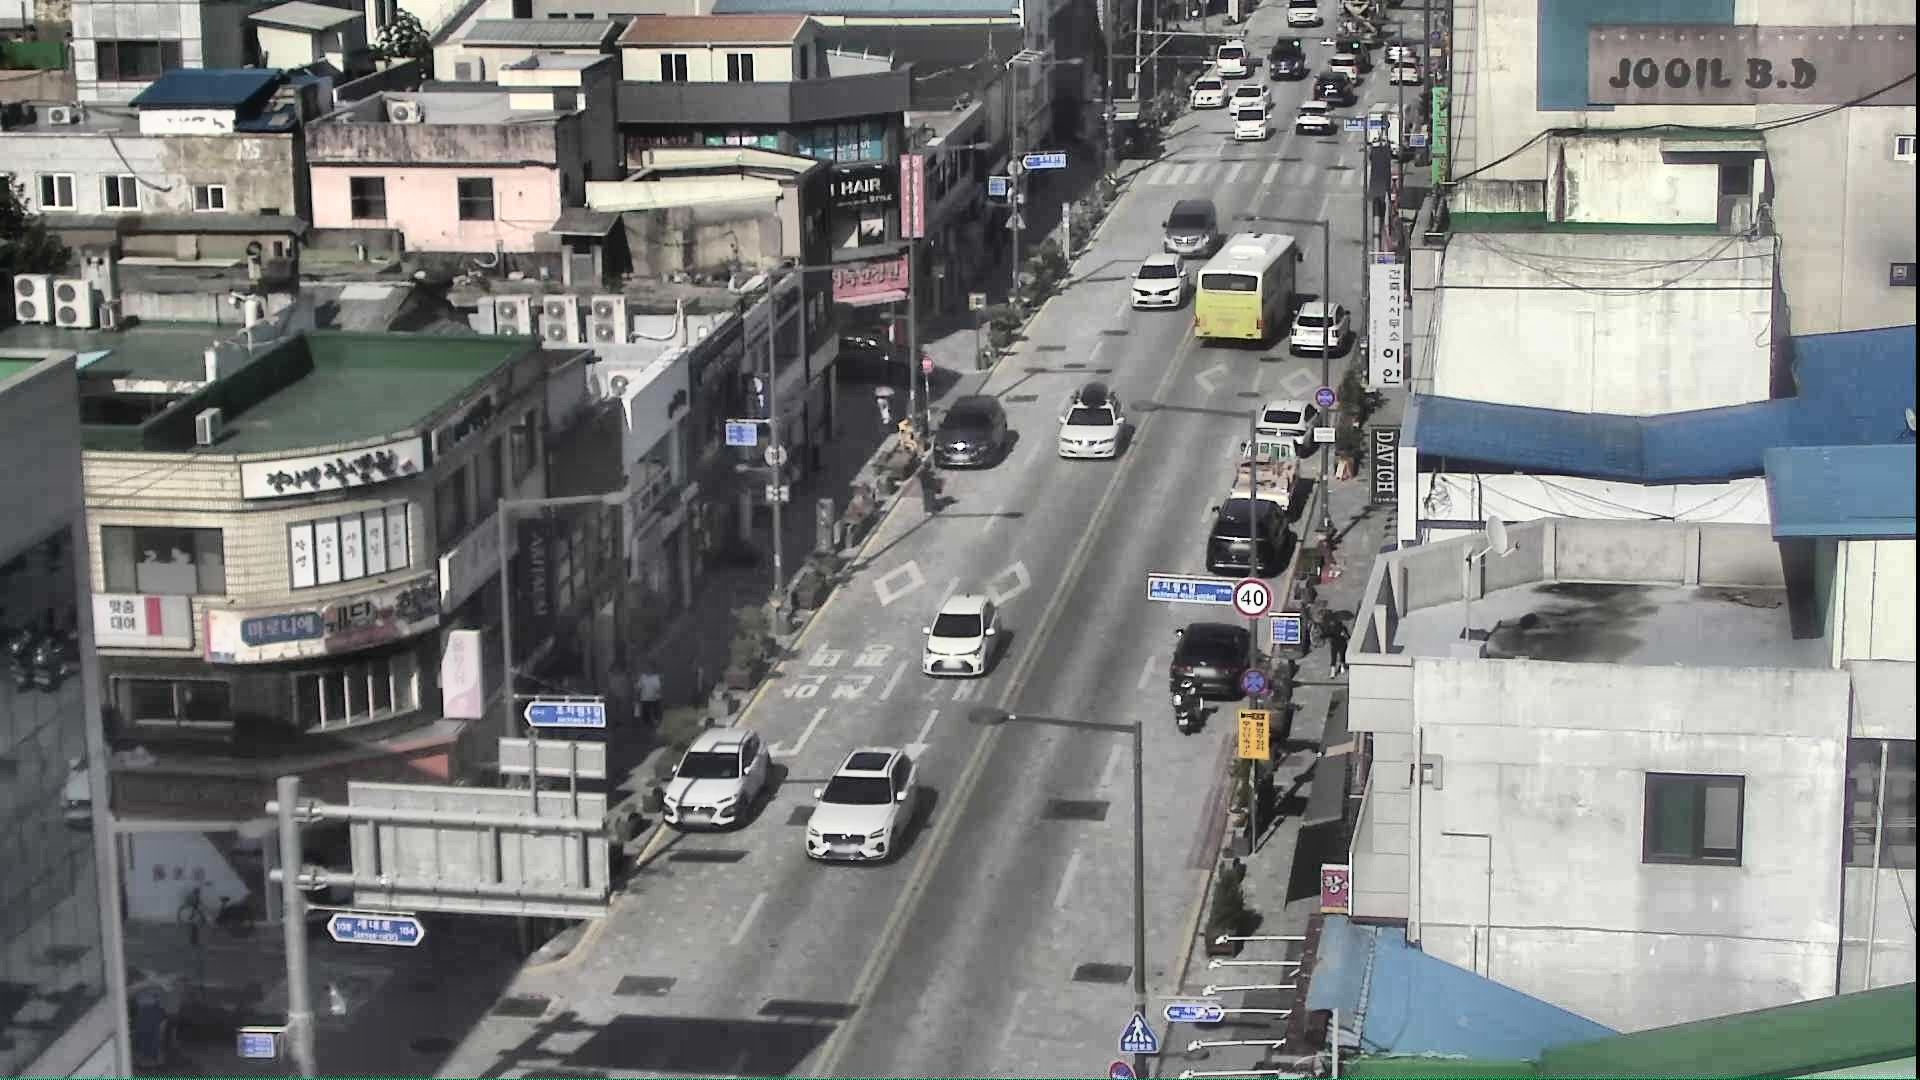jaywalk: (914, 458, 942, 520)
sidewalk: (629, 662, 665, 728)
um_sidewalk: (1324, 605, 1353, 679), (870, 382, 895, 436)
